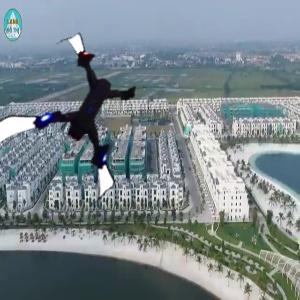drone: (8, 52, 156, 200)
